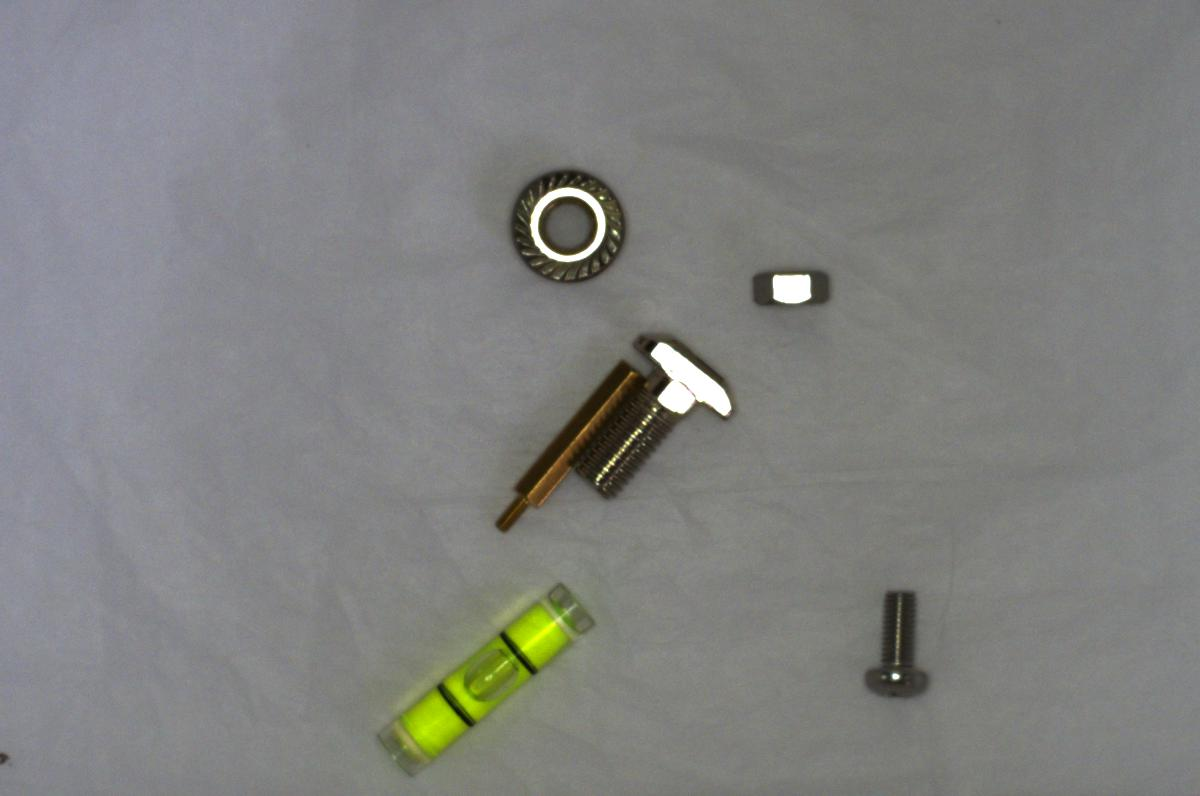Flange nut: (498, 155, 630, 296)
Hexagon nut: (745, 260, 845, 316)
Hexagon pillar: (488, 358, 638, 528)
Horizontal bubble: (358, 578, 600, 774)
Round head screw: (857, 575, 934, 699)
T-shaped screw: (579, 327, 740, 492)
